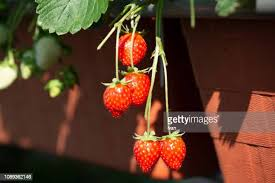ripe: (132, 136, 163, 176), (115, 32, 147, 68), (103, 81, 131, 119), (118, 70, 149, 104), (158, 133, 186, 170)
unripe: (34, 37, 63, 72), (20, 49, 39, 81), (3, 50, 17, 89), (46, 79, 60, 98)
